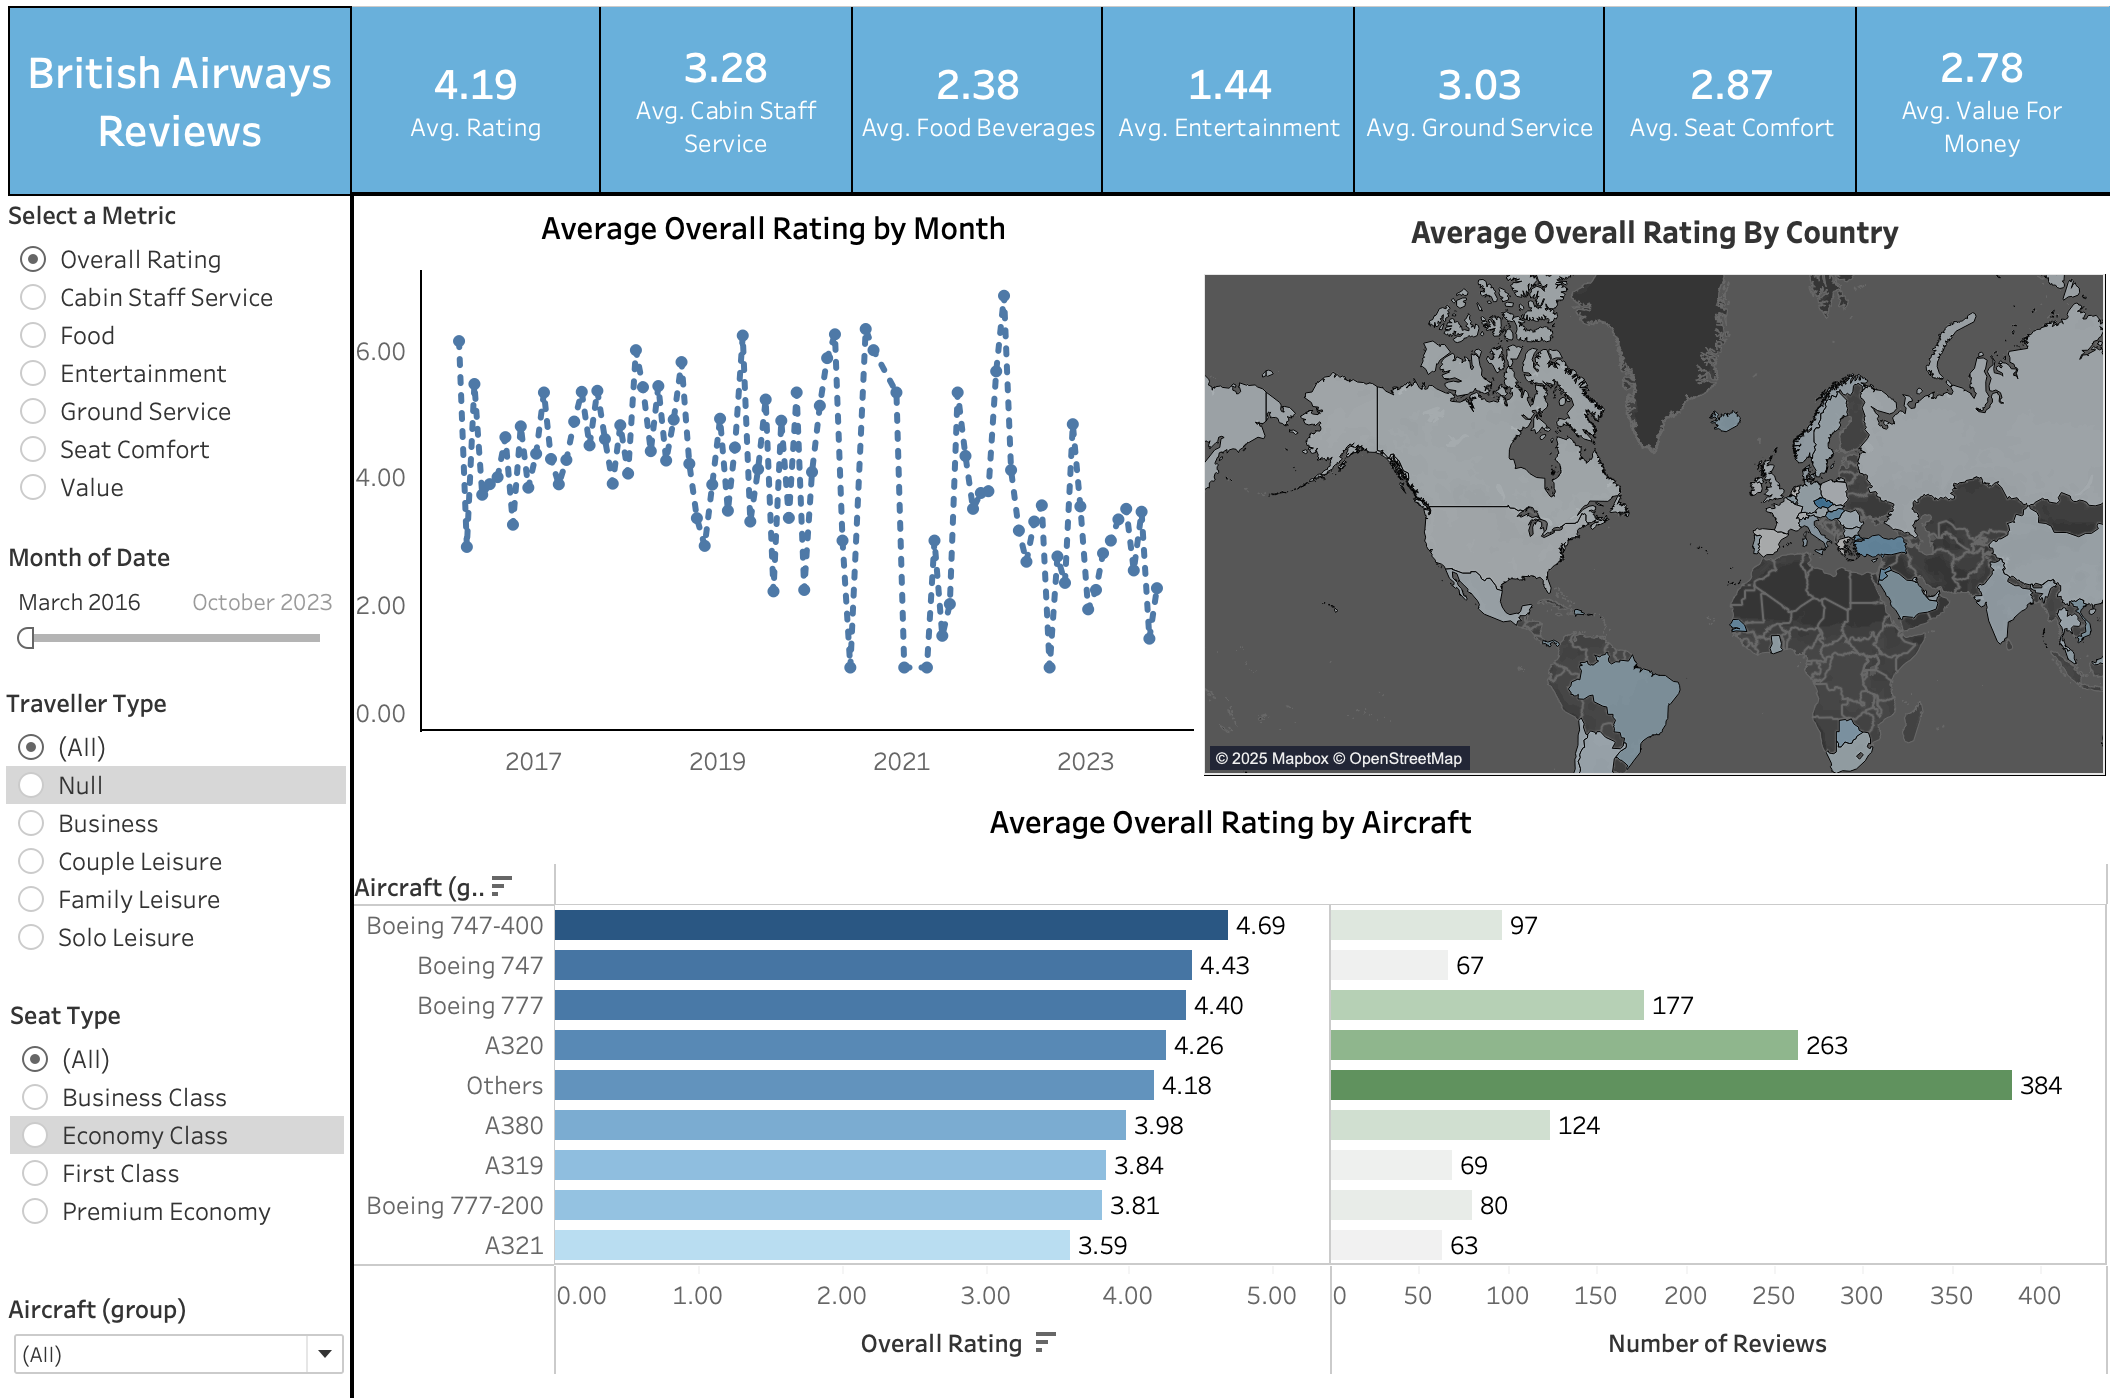

Layout of this report page (visuals, bound fields, positions):
{"tool":"tableau","page":{"name":"Final","canvas":[1000,1000],"units":"permille","ordinal":0},"visuals":[{"type":"text","box":[0,0,163.8,135.1]},{"type":"worksheet","title":"Sum","mark":"Automatic","box":[162.9,0,838.1,135.1]},{"type":"blank","box":[162.9,132.9,1.9,862.9]},{"type":"parameter","param":"[Parameters].[Parameter 1]","box":[0,137.1,161,244.3]},{"type":"worksheet","title":"Month","mark":"Automatic","rows":["Calculation_1967369396922077185"],"cols":["date"],"box":[164.8,137.1,400,422.9]},{"type":"worksheet","title":"Map","mark":"Automatic","box":[569.5,140,429.5,410]},{"type":"filter","title":"Map","param":"[federated.143452f00zbmdh1f3qs7f1hjkmfj].[tmn:date:qk]","box":[0,381.4,161,85.7]},{"type":"worksheet","title":"Air","mark":"Automatic","cols":["Calculation_1967369396922077185","ba_reviews.csv_109C8B0053E343ABA564AE6B8FB793EF"],"box":[164.8,561.4,836.2,438.6]},{"type":"filter","title":"Map","param":"[federated.143452f00zbmdh1f3qs7f1hjkmfj].[none:seat_type:nk]","box":[1,708.6,159.1,175.7]},{"type":"filter","title":"Map","param":"[federated.143452f00zbmdh1f3qs7f1hjkmfj].[Aircraft (group)]","box":[0,918.6,162.9,71.4]}]}

Visuals, with their boxes on the dashboard's canvas, which has no fixed pixel size, in thousandths of its width and height (x1, y1, x2, y2). These are canvas units, not pixel positions in the 2112x1398 screenshot, which may show the page scaled, cropped or inside an application window:
text: locate(0, 0, 164, 135)
"Sum" worksheet: locate(163, 0, 1001, 135)
blank: locate(163, 133, 165, 996)
parameter: locate(0, 137, 161, 381)
"Month" worksheet: locate(165, 137, 565, 560)
"Map" worksheet: locate(570, 140, 999, 550)
"Map" filter: locate(0, 381, 161, 467)
"Air" worksheet: locate(165, 561, 1001, 1000)
"Map" filter: locate(1, 709, 160, 884)
"Map" filter: locate(0, 919, 163, 990)
